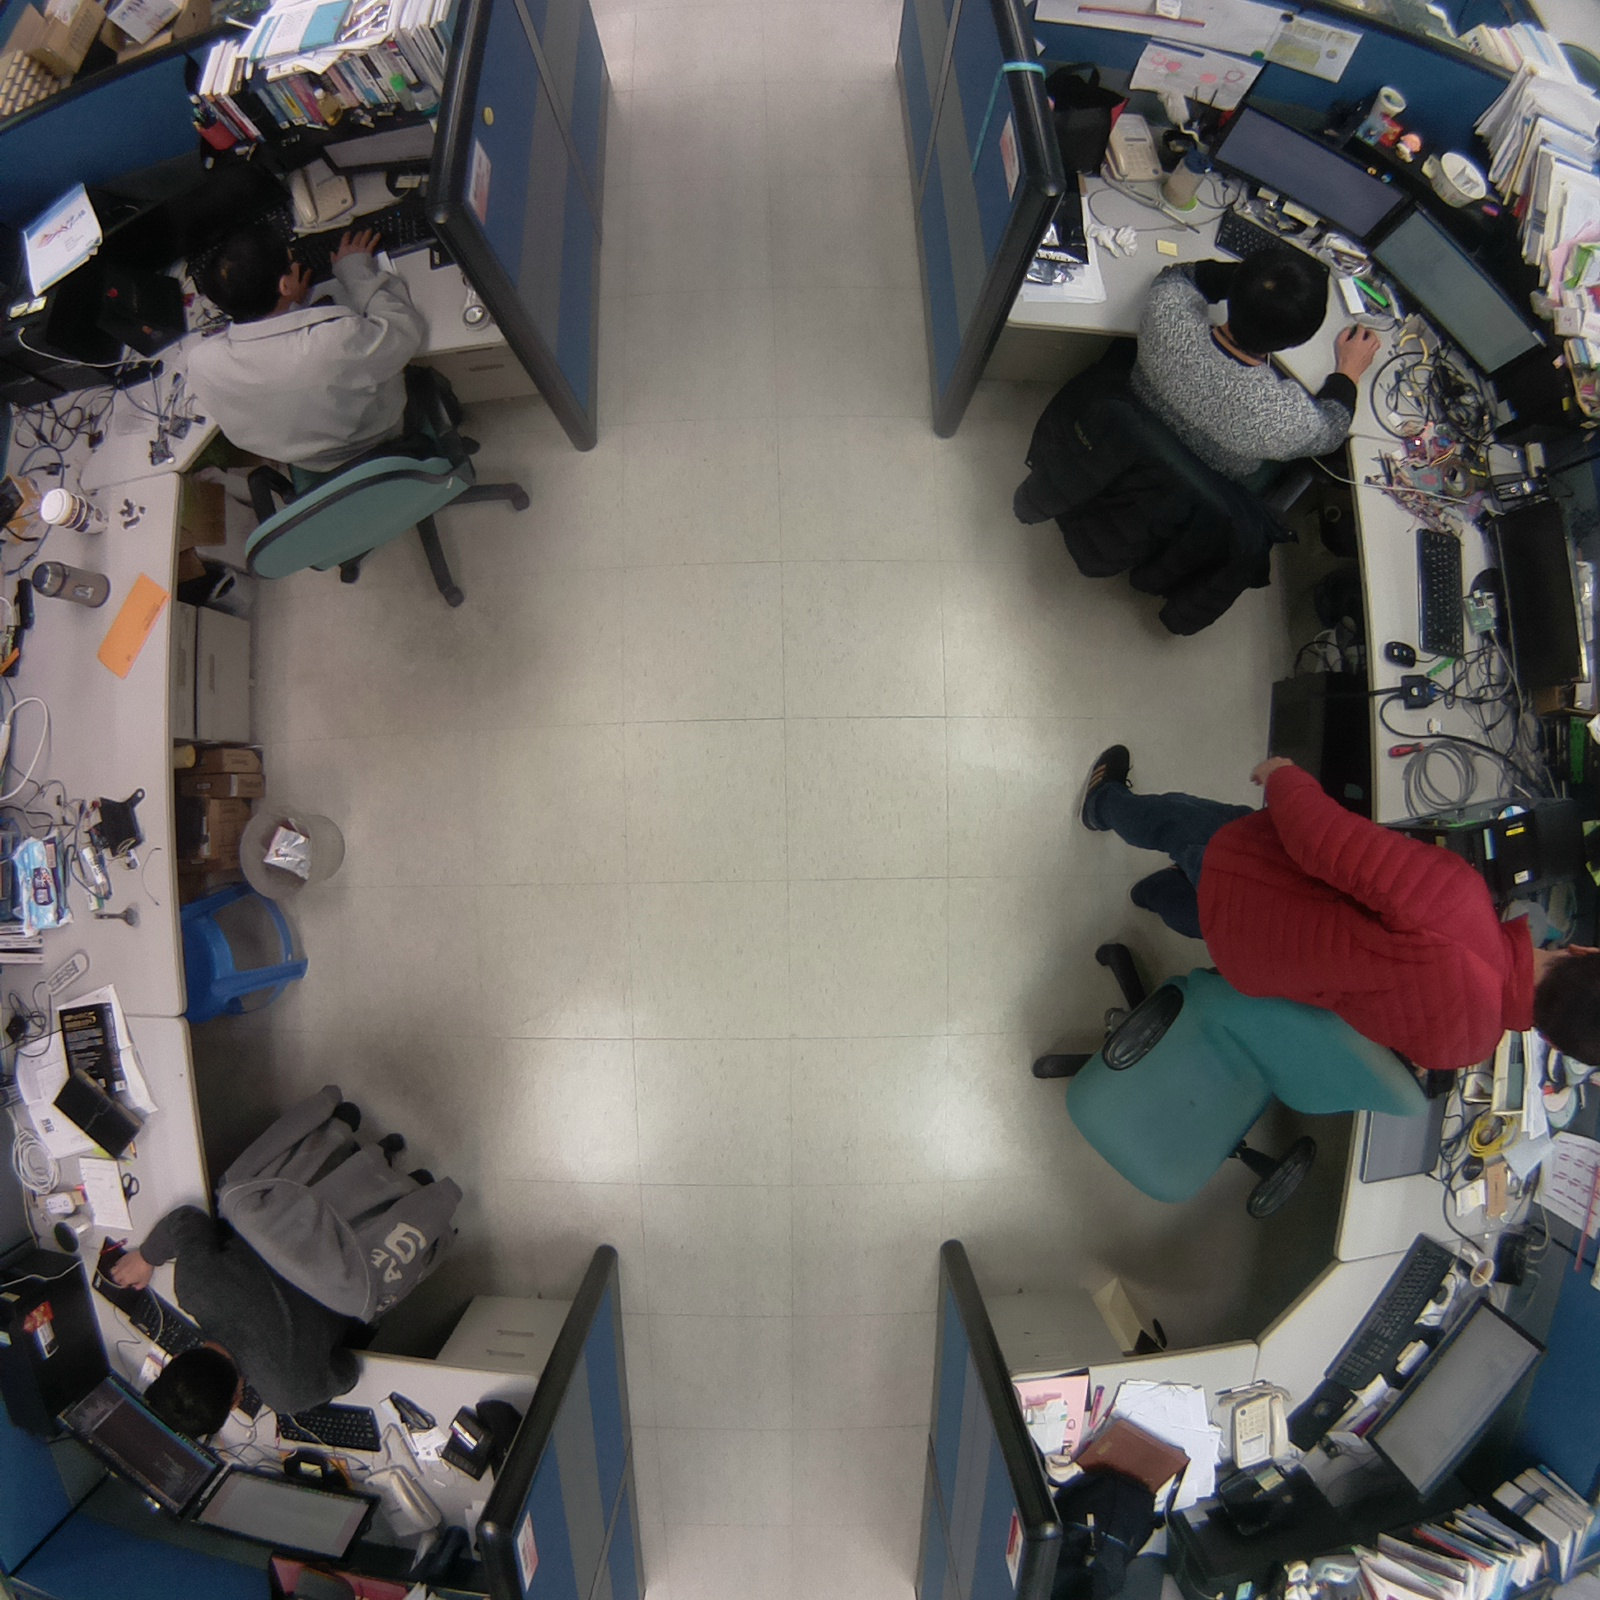chair: (1006, 917, 1455, 1222)
head: (180, 206, 306, 319), (1221, 238, 1334, 355), (1529, 925, 1600, 1082), (142, 1340, 244, 1442)
sitting: (1001, 229, 1401, 647), (165, 191, 545, 622), (101, 1065, 486, 1445)
standing: (1073, 732, 1600, 1096)
